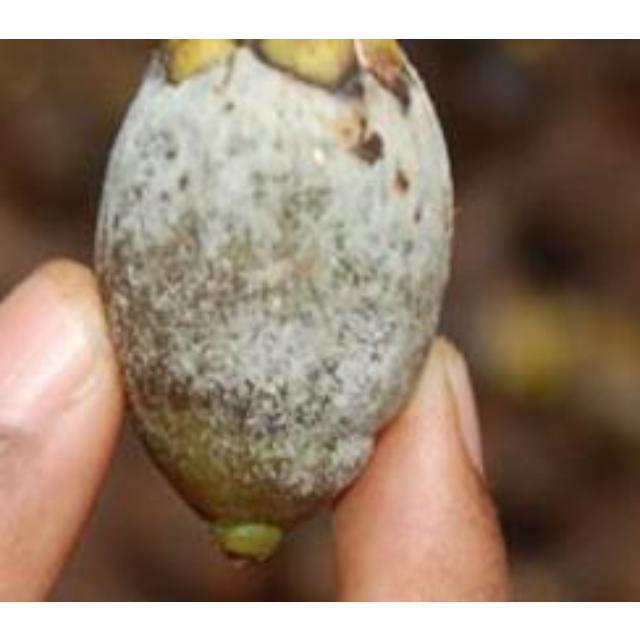damaged: (92, 38, 456, 568)
